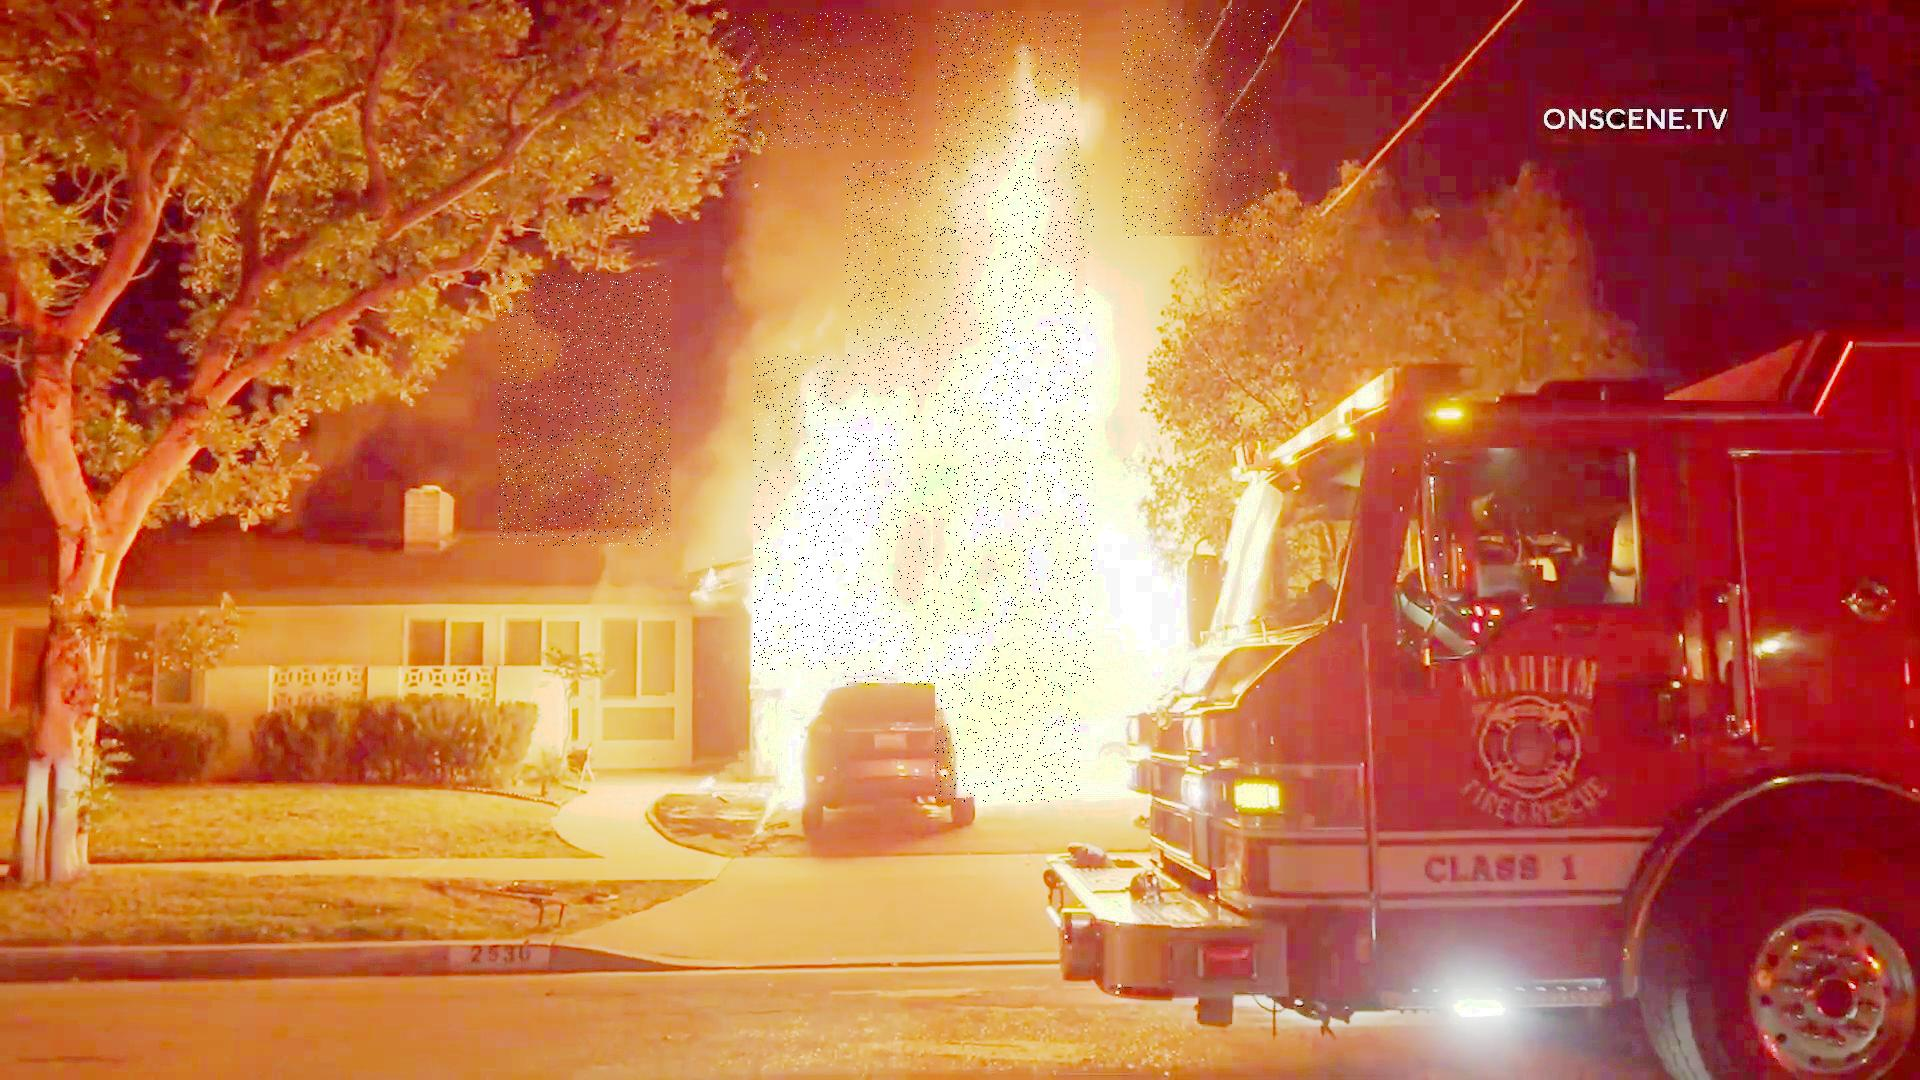fire: (845, 161, 1095, 686), (935, 12, 1081, 803), (753, 355, 926, 670)
smoke: (498, 273, 671, 546), (1124, 9, 1273, 239), (713, 13, 915, 149)
